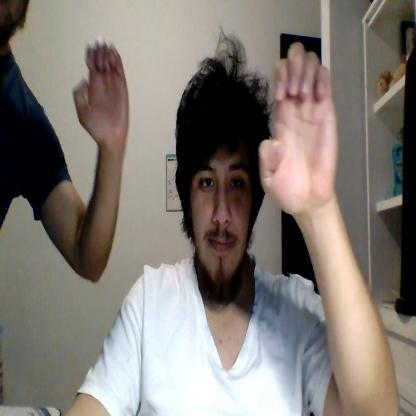E: (258, 43, 337, 214), (73, 38, 129, 144)
